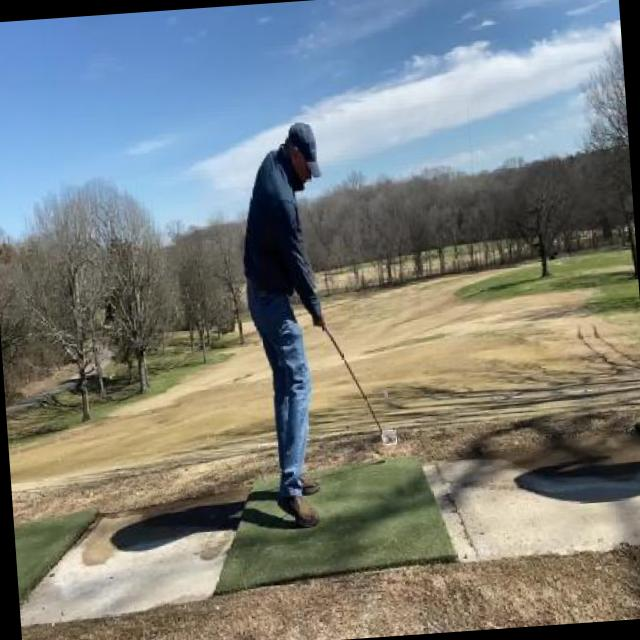club head: (382, 429, 397, 445)
